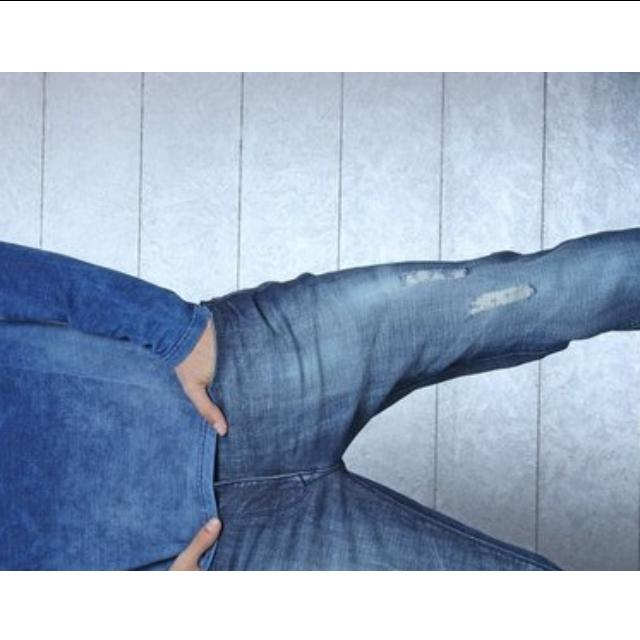denim: (210, 225, 640, 569)
